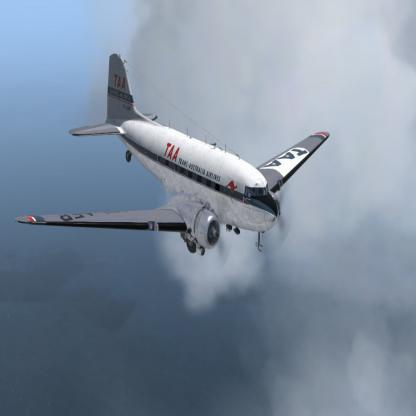CIV_Plane: (14, 47, 332, 266)
